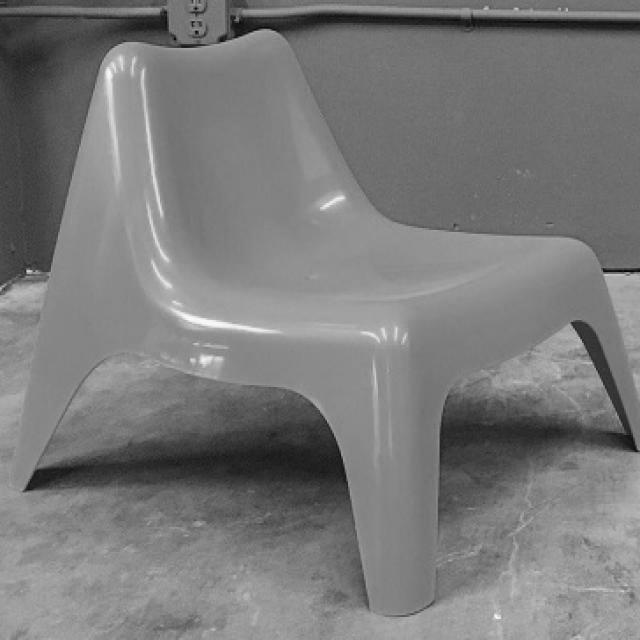chair: (7, 29, 640, 619)
